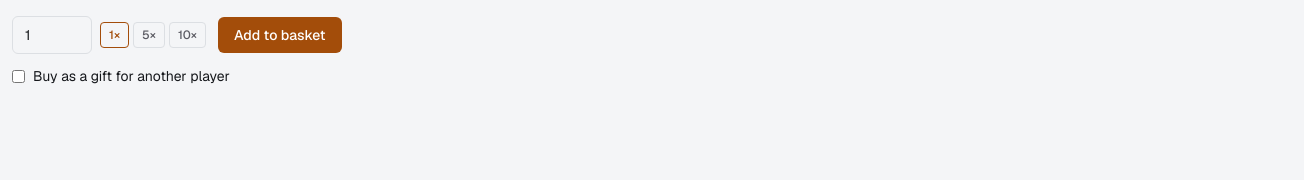
it: AddToBasketButton — gifting › submits the trimmed gift username once filled, and shows the gift success message
Click the checkbox labelled "Buy as a gift for another player": (18, 76) [12, 70, 25, 82]
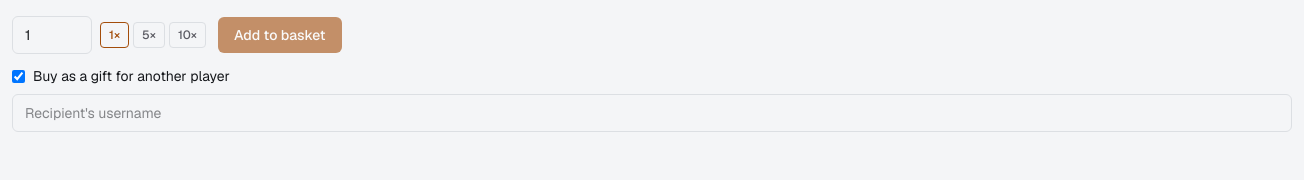
In the field labelled "Recipient's username": (652, 113) [12, 94, 1292, 132], type "  Notch  "
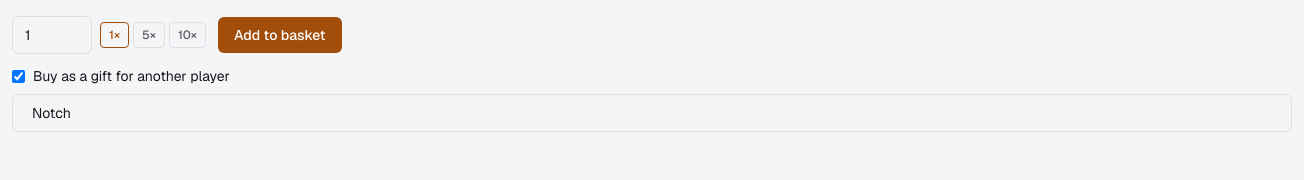
Click the button "Add to basket": (280, 35) [218, 17, 342, 53]
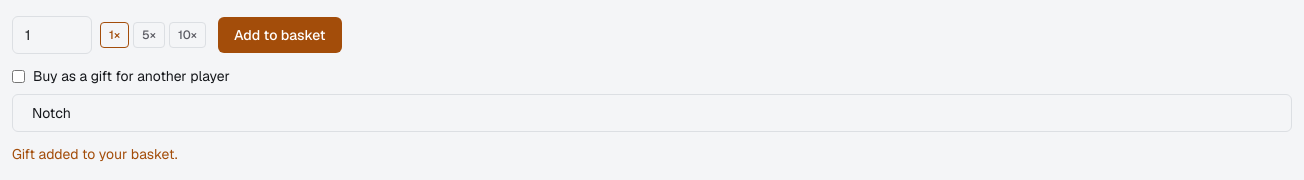
Now the text "Gift added to your basket." is shown, box [12, 145, 178, 163]
